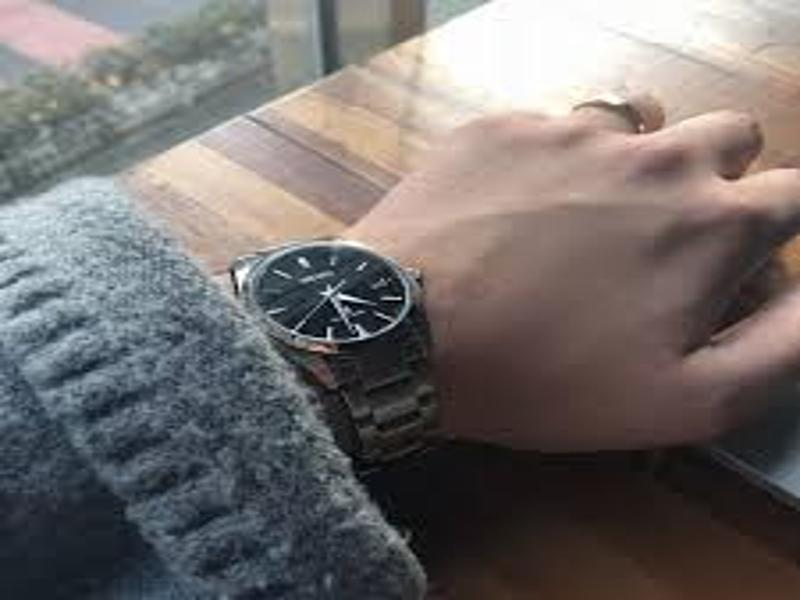watch: (227, 232, 443, 479)
